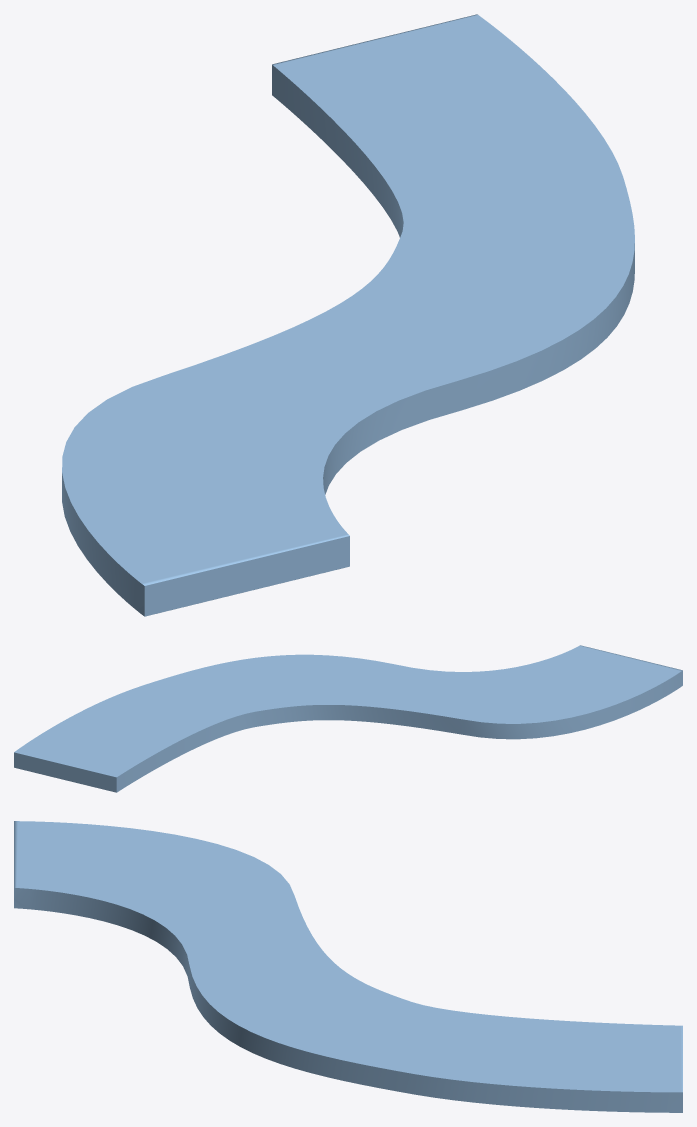
Rendered from sBend3.fbx.
3 views of the same model, one above another, from view 1: azimuth 30°, elevation 25°; view 2: azimuth 150°, elevation 25°; view 3: azimuth 270°, elevation 25° (orthographic). The views are drawn at different scales.
Parts seen in each view (by area): view 1: sBend3; view 2: sBend3; view 3: sBend3.
Part boxes in pixels (<box>): sBend3: <box>62,14,634,616</box>; sBend3: <box>14,645,682,792</box>; sBend3: <box>14,821,682,1112</box>.
Bounding box in the file's own units: 1423 × 50 × 1483.
